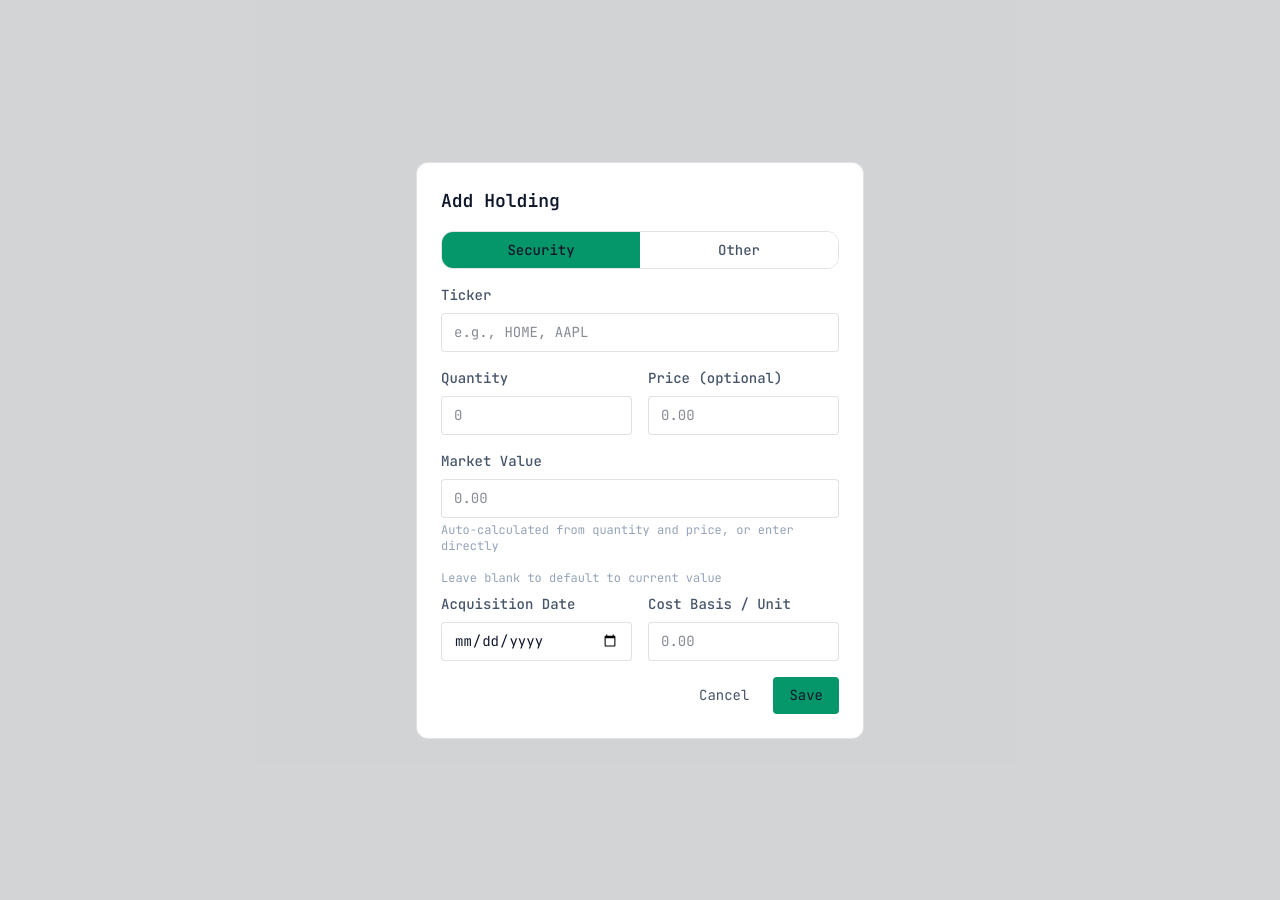
Test: HoldingFormModal › shows error on failure
Step 1. Type "HOME" into the field with test id "holding-ticker" → point(640, 332), box [441,312,839,352]
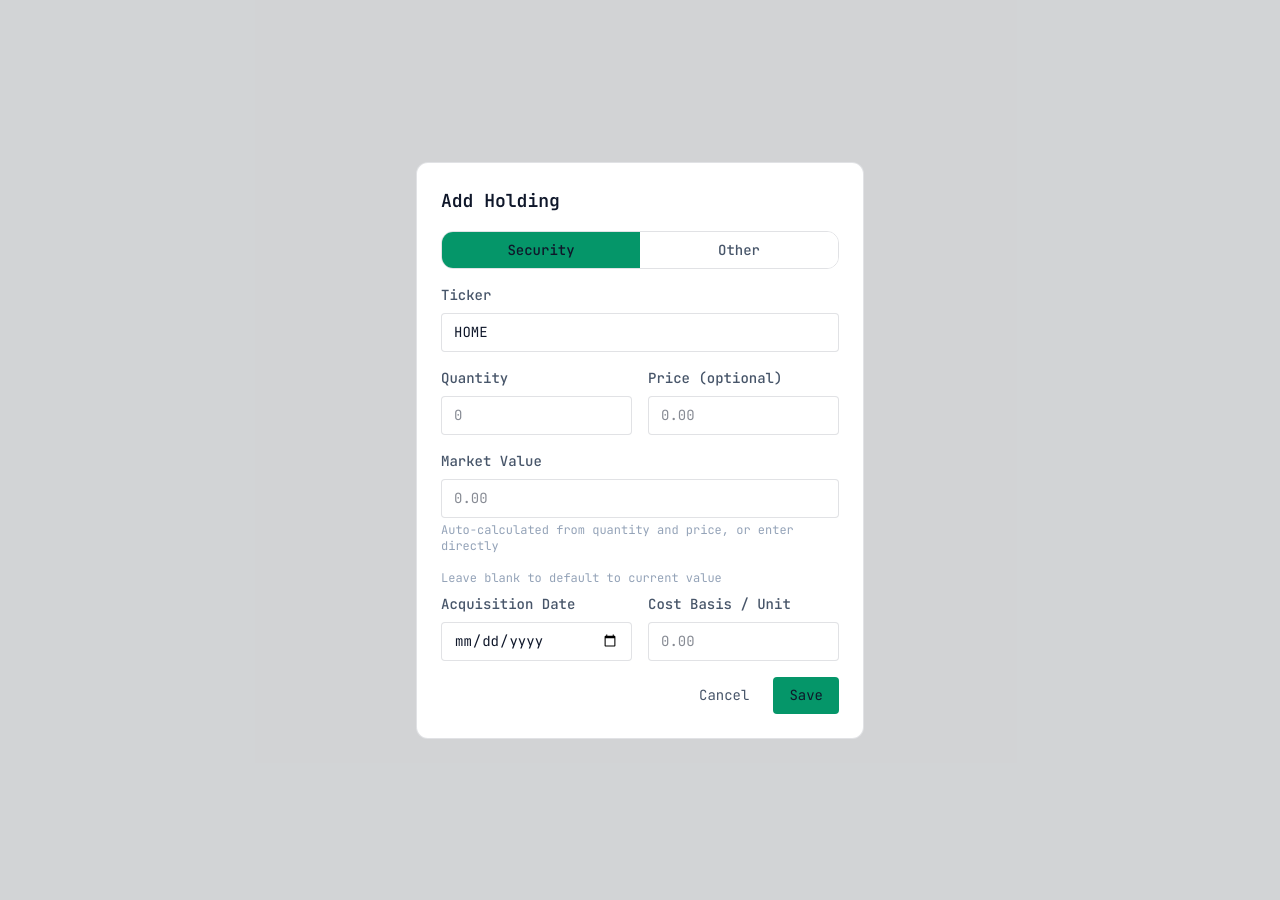
Step 2. Type "1" into the number field with test id "holding-quantity" → point(536, 415), box [441,396,632,434]
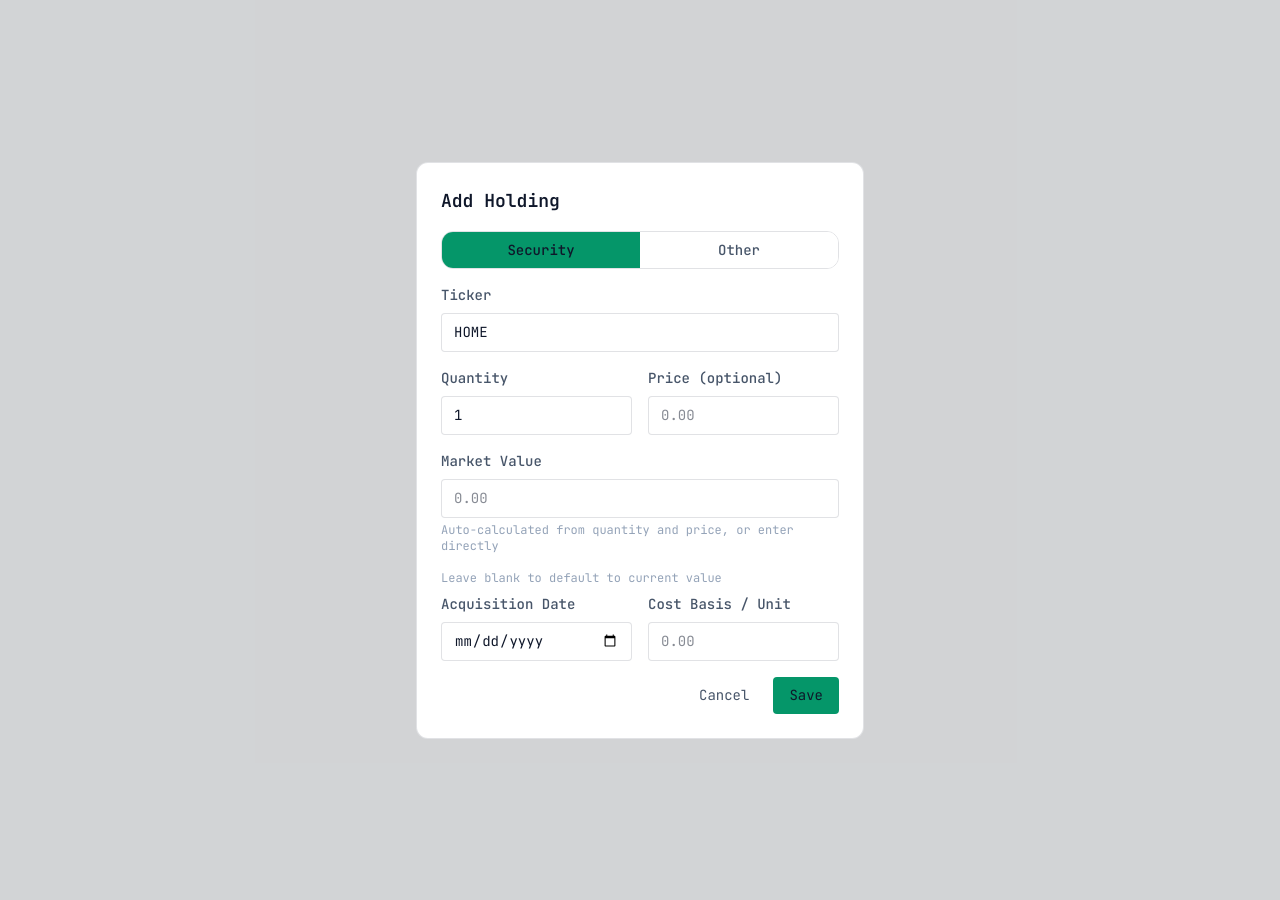
Step 3. Type "500000" into the number field with test id "holding-market-value" → point(640, 498), box [441,478,839,518]
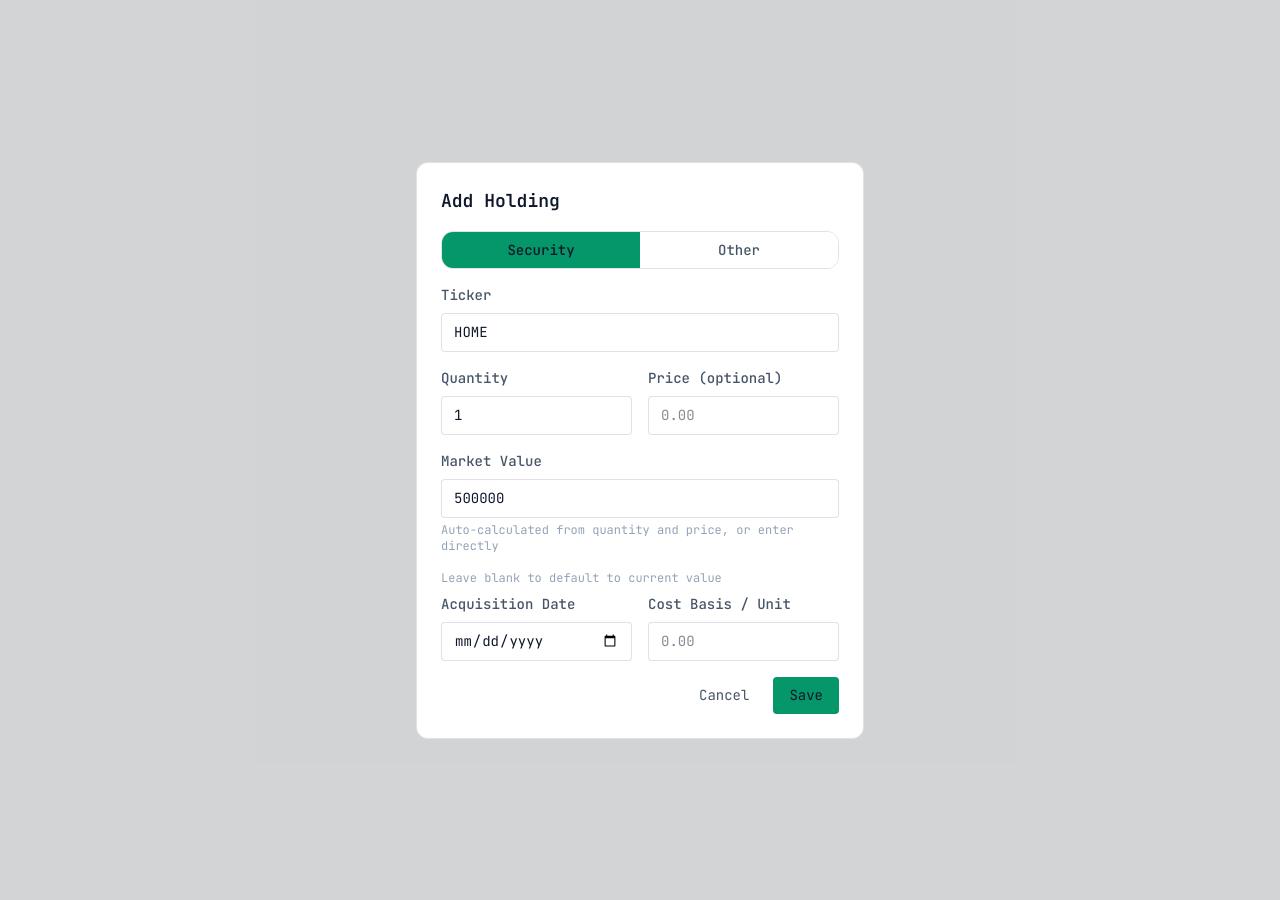
Step 4. Click the button "Save" → point(806, 695), box [773,676,839,714]
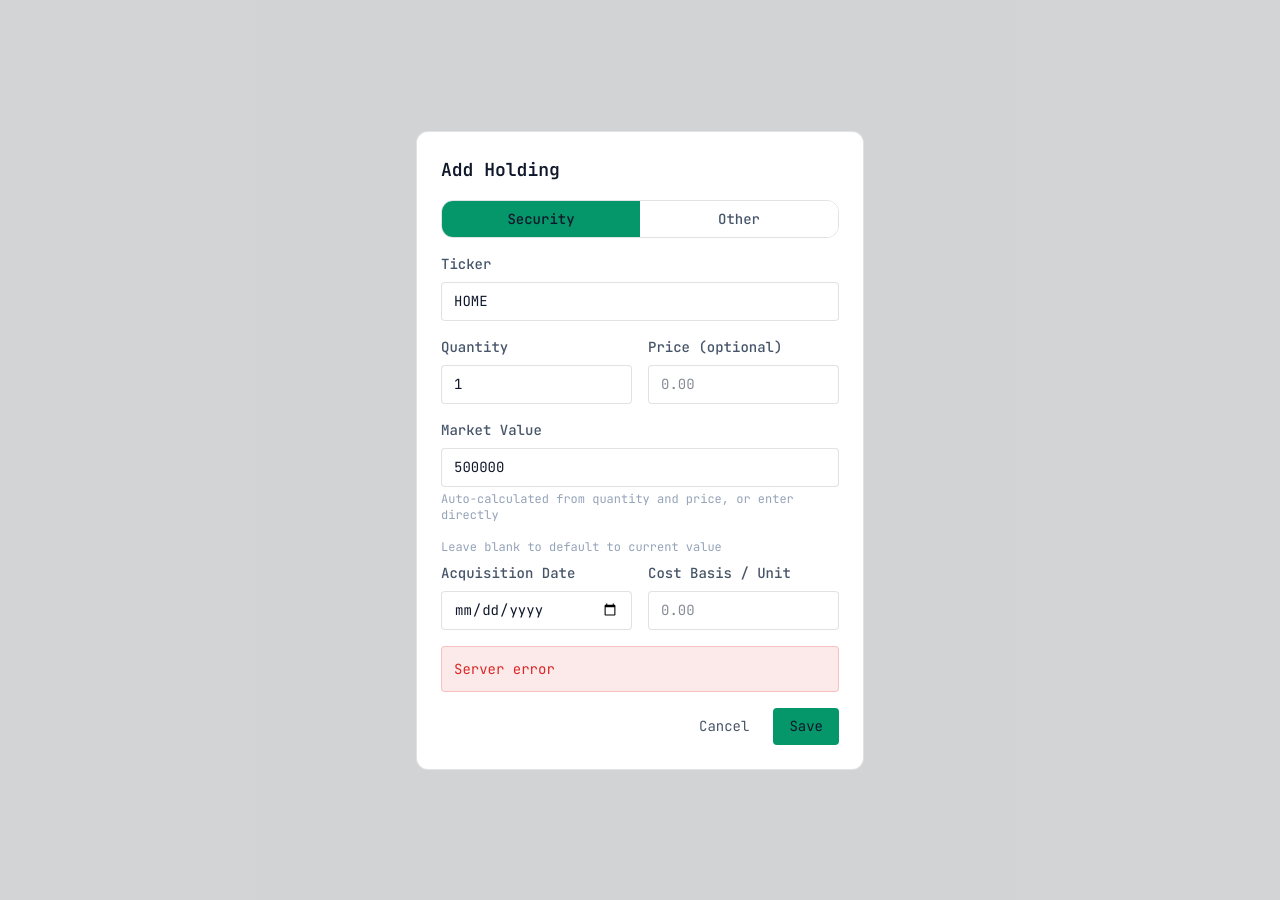
Expected: the text with test id "holding-form-error" reads "Server error", [454,660,555,678]
